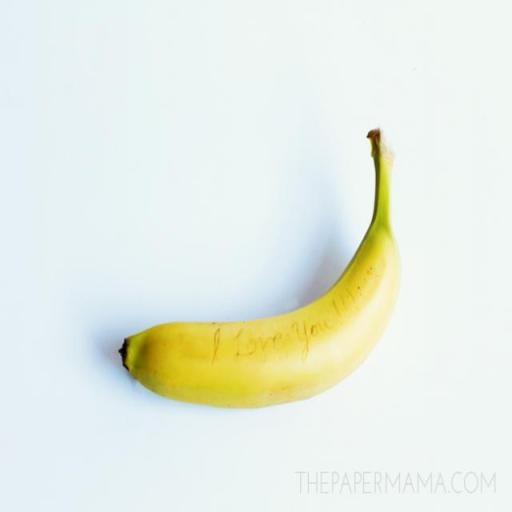fruit: (120, 130, 399, 407)
